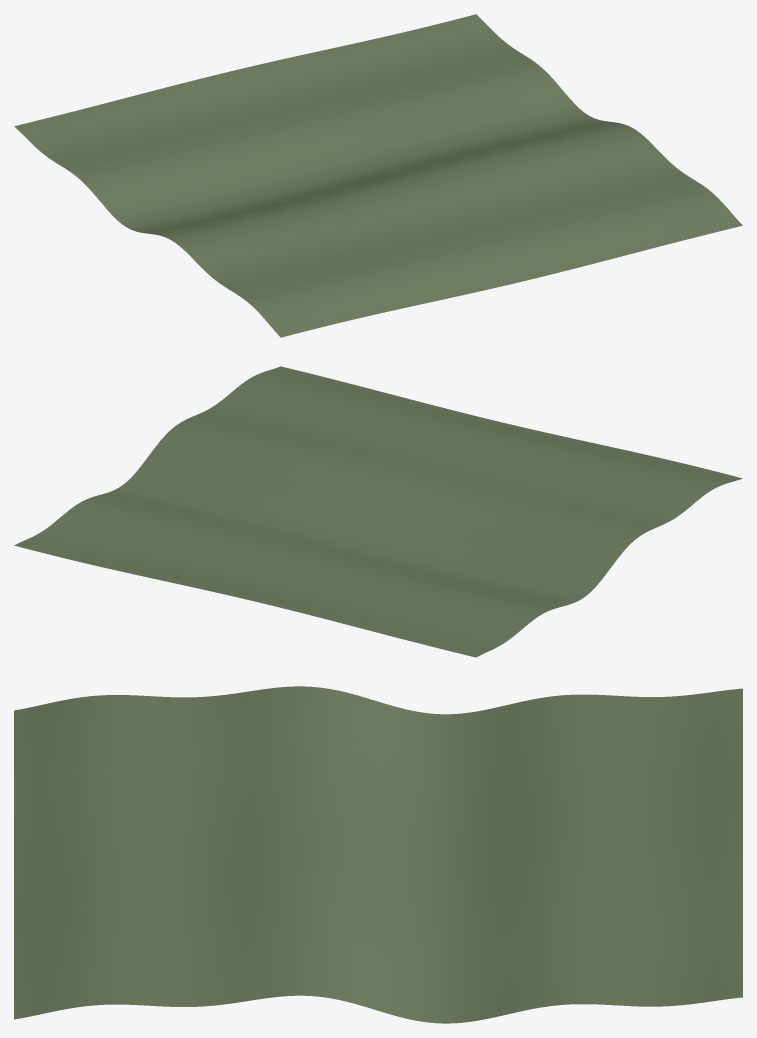
Rendered from amber_orchard_steps.obj.
3 views of the same model, one above another, from view 1: azimuth 30°, elevation 25°; view 2: azimuth 150°, elevation 25°; view 3: azimuth 270°, elevation 25° (orthographic). The views are drawn at different scales.
Bounding box in the file's own units: 179 × 9.19 × 179.
